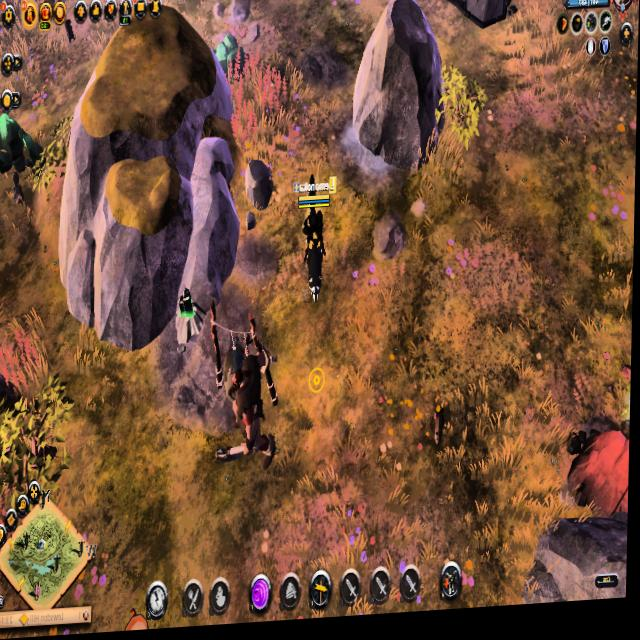ore tier 3: (173, 283, 206, 353)
